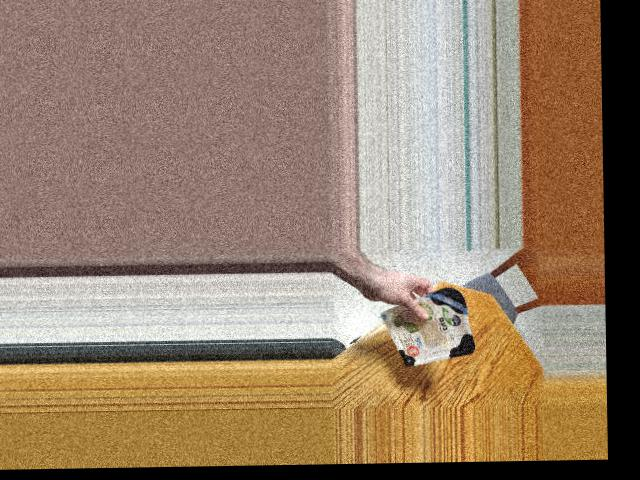cheese: (395, 289, 472, 364)
